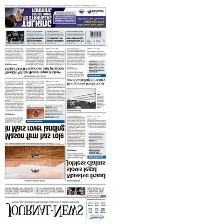news_paper: (4, 4, 105, 221)
